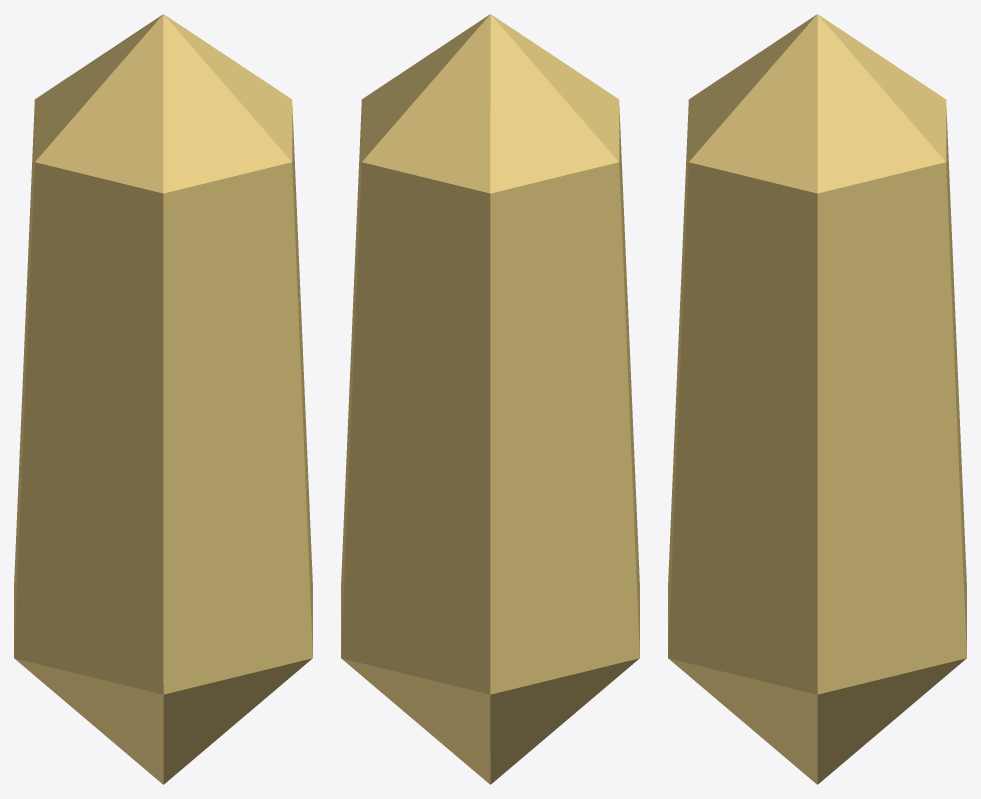
The model's file is cristal_s1.fbx.
The picture shows the model from 3 angles, left to right: view 1: azimuth 30°, elevation 25°; view 2: azimuth 150°, elevation 25°; view 3: azimuth 270°, elevation 25°; orthographic projection.
Parts seen in each view (by area): view 1: pCylinder1; view 2: pCylinder1; view 3: pCylinder1.
Boxes of the visible parts, x1,y1,x2,y2 form: pCylinder1: (14, 14, 312, 784); pCylinder1: (341, 14, 639, 784); pCylinder1: (668, 14, 966, 784).
Bounding box in the file's own units: 44.14 × 109 × 38.23.
